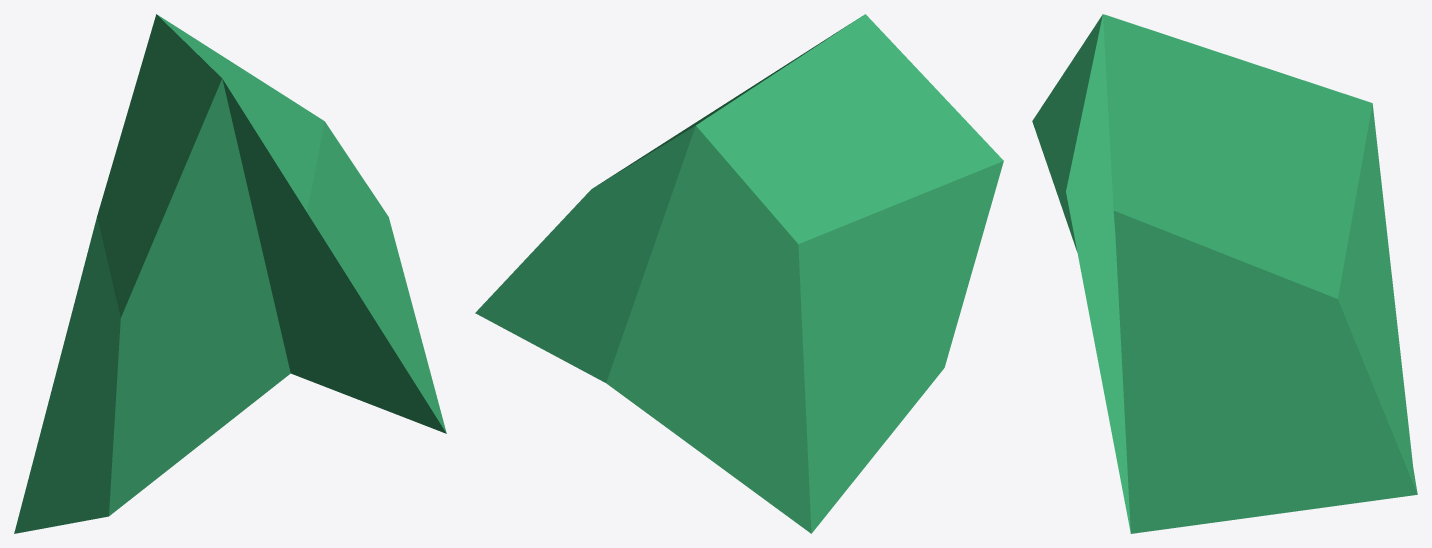
File: RockDebris3.fbx
The picture shows the model from 3 angles, left to right: view 1: azimuth 30°, elevation 25°; view 2: azimuth 150°, elevation 25°; view 3: azimuth 270°, elevation 25°; orthographic projection. The views are drawn at different scales.
Parts seen in each view (by area): view 1: RockDebri3; view 2: RockDebri3; view 3: RockDebri3.
Boxes of the visible parts, x1,y1,x2,y2 form: RockDebri3: [14, 14, 446, 533]; RockDebri3: [475, 14, 1003, 533]; RockDebri3: [1032, 14, 1417, 533].
Size of the model in its own units: 55.59 by 61.18 by 41.22.
